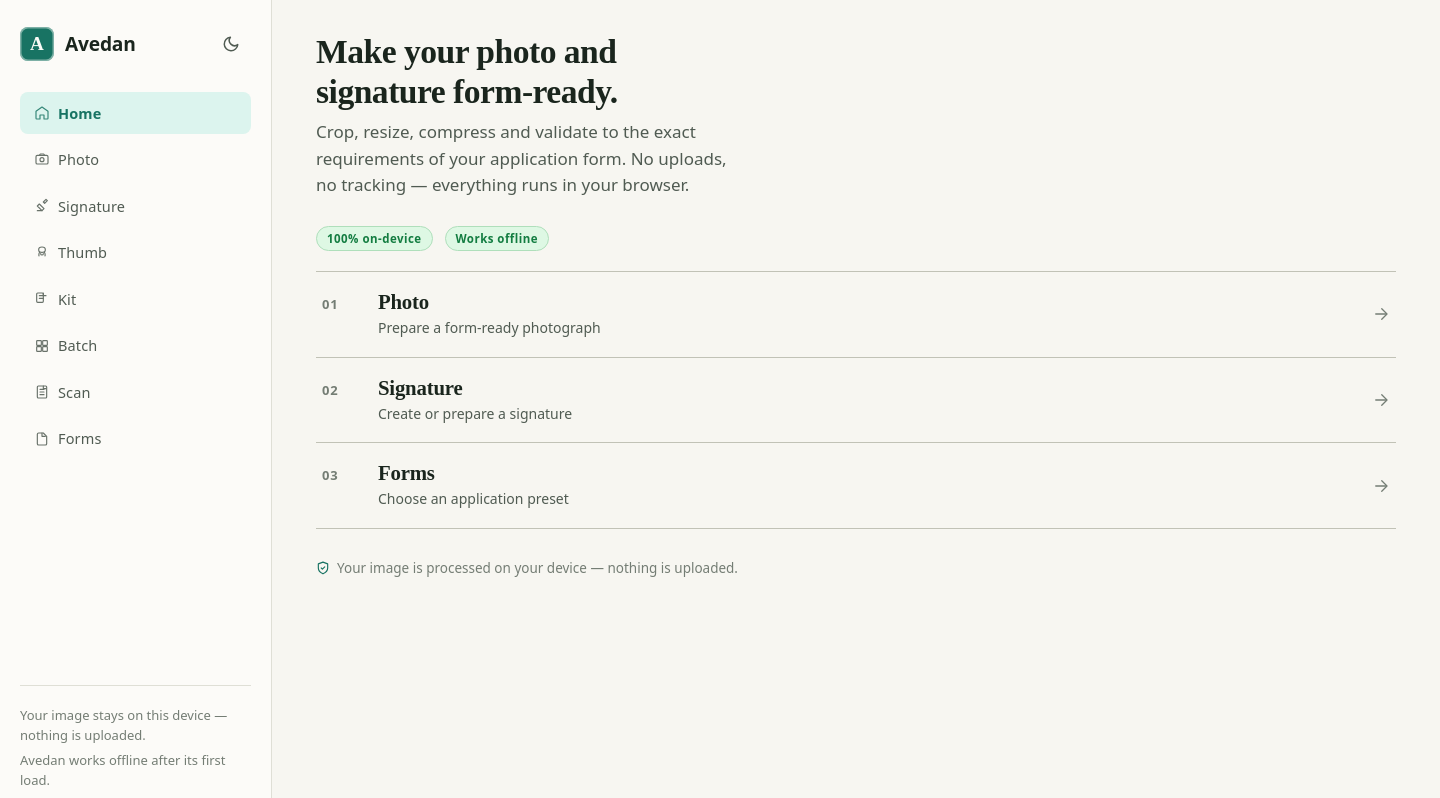
Test: App shell › switches to the thumb view when navigated
Click the button "Thumb" at (136, 253), box [20,231,251,274]
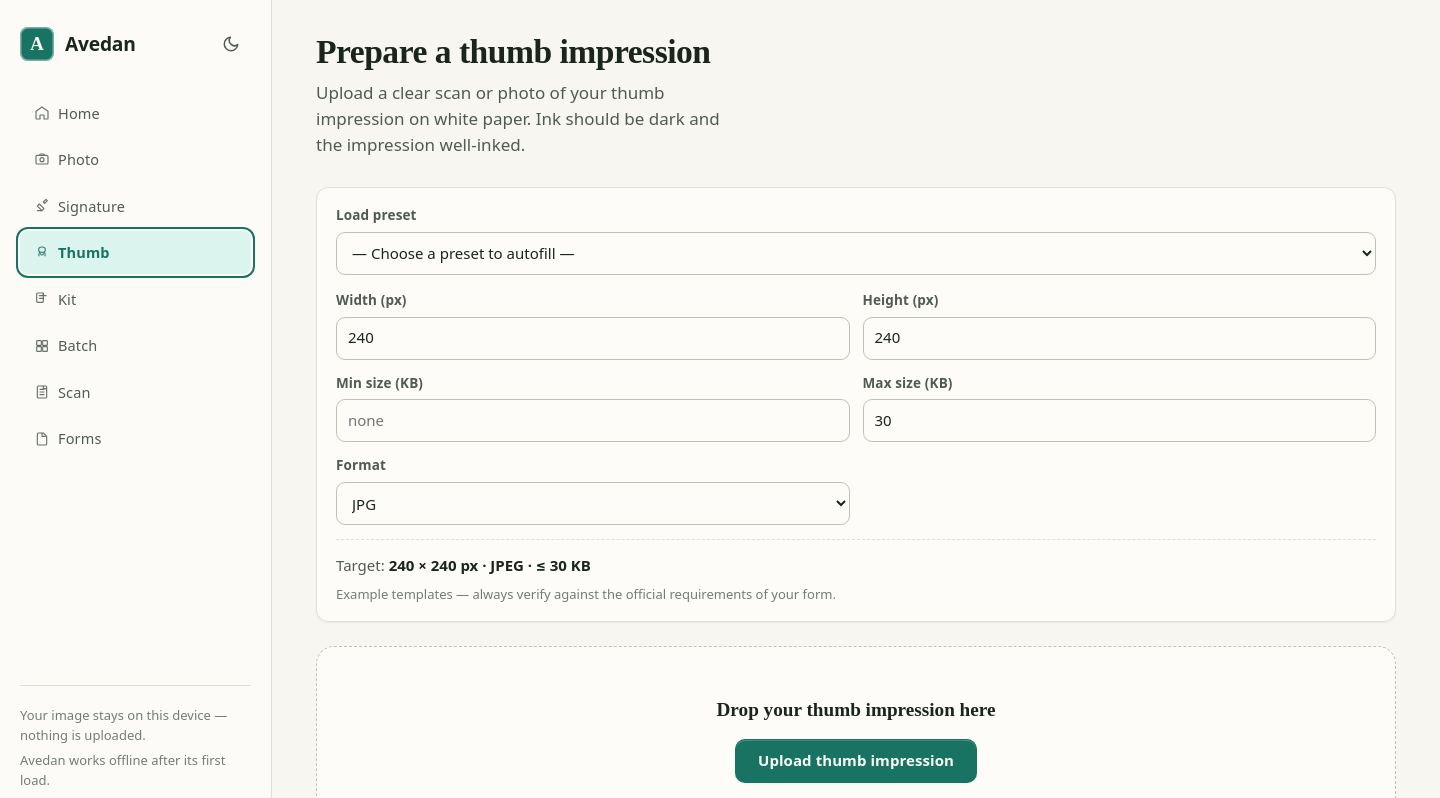
Check: the heading "Prepare a thumb impression" is shown, box [316,32,719,72]
